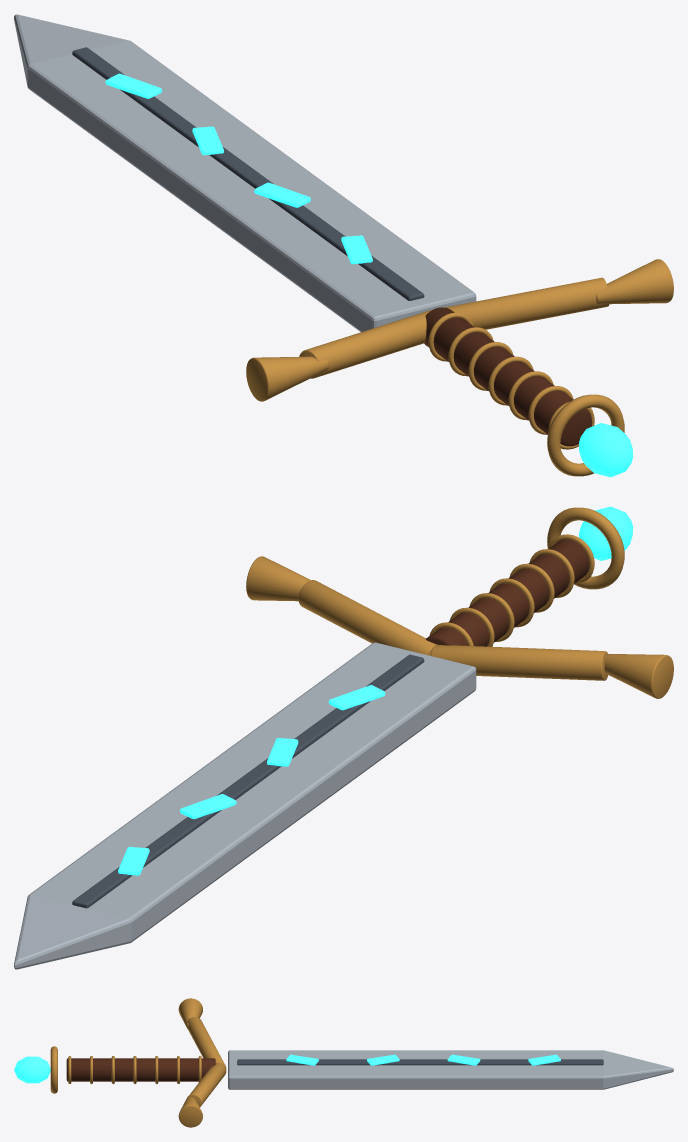
File: medieval_greatsword.glb
3 views of the same model, one above another, from view 1: azimuth 30°, elevation 25°; view 2: azimuth 150°, elevation 25°; view 3: azimuth 270°, elevation 25° (orthographic). The views are drawn at different scales.
Parts seen in each view (by area): view 1: Greatsword_TaperedBlade, Greatsword_GripCore, Greatsword_Fuller, Greatsword_RightGuard, Greatsword_LeftGuard, Greatsword_LeftGuardTip, Greatsword_RightGuardTip, Greatsword_PommelGem, Greatsword_PommelRing, Greatsword_Rune_4, Greatsword_Rune_2; view 2: Greatsword_TaperedBlade, Greatsword_GripCore, Greatsword_LeftGuard, Greatsword_Fuller, Greatsword_RightGuard, Greatsword_LeftGuardTip, Greatsword_PommelRing, Greatsword_RightGuardTip, Greatsword_PommelGem, Greatsword_Rune_1, Greatsword_Rune_3; view 3: Greatsword_TaperedBlade, Greatsword_GripCore, Greatsword_Fuller, Greatsword_PommelGem, Greatsword_LeftGuard, Greatsword_RightGuard, Greatsword_RightGuardTip, Greatsword_LeftGuardTip, Greatsword_PommelRing, Greatsword_Rune_4, Greatsword_Rune_3, Greatsword_Rune_1 (+1 smaller).
Boxes of the visible parts, <box> form: Greatsword_TaperedBlade: <box>14,14,476,331</box>; Greatsword_GripCore: <box>424,307,592,446</box>; Greatsword_Fuller: <box>72,47,424,300</box>; Greatsword_RightGuard: <box>432,277,609,329</box>; Greatsword_LeftGuard: <box>299,310,431,378</box>; Greatsword_LeftGuardTip: <box>246,356,328,401</box>; Greatsword_RightGuardTip: <box>596,259,673,304</box>; Greatsword_PommelGem: <box>579,423,632,477</box>; Greatsword_PommelRing: <box>547,394,624,476</box>; Greatsword_Rune_4: <box>105,73,162,98</box>; Greatsword_Rune_2: <box>254,182,310,207</box>; Greatsword_TaperedBlade: <box>14,642,476,969</box>; Greatsword_GripCore: <box>425,539,589,646</box>; Greatsword_LeftGuard: <box>431,644,608,680</box>; Greatsword_Fuller: <box>72,654,424,908</box>; Greatsword_RightGuard: <box>298,580,436,655</box>; Greatsword_LeftGuardTip: <box>604,654,673,698</box>; Greatsword_PommelRing: <box>547,507,624,589</box>; Greatsword_RightGuardTip: <box>246,556,310,601</box>; Greatsword_PommelGem: <box>579,506,632,560</box>; Greatsword_Rune_1: <box>328,685,385,710</box>; Greatsword_Rune_3: <box>180,794,236,819</box>; Greatsword_TaperedBlade: <box>228,1050,673,1089</box>; Greatsword_GripCore: <box>66,1058,215,1081</box>; Greatsword_Fuller: <box>237,1059,603,1065</box>; Greatsword_PommelGem: <box>14,1056,50,1083</box>; Greatsword_LeftGuard: <box>187,1017,226,1068</box>; Greatsword_RightGuard: <box>187,1062,226,1107</box>; Greatsword_RightGuardTip: <box>178,1096,202,1127</box>; Greatsword_LeftGuardTip: <box>178,998,202,1029</box>; Greatsword_PommelRing: <box>50,1046,57,1093</box>; Greatsword_Rune_4: <box>528,1054,560,1065</box>; Greatsword_Rune_3: <box>447,1054,480,1065</box>; Greatsword_Rune_1: <box>286,1054,318,1065</box>.
Size of the model in its own units: 0.82 by 0.154 by 2.13.
